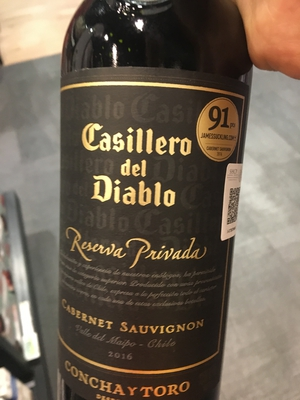casillero del diablo reserva privada cabernet sauvignon: (57, 15, 262, 394)
